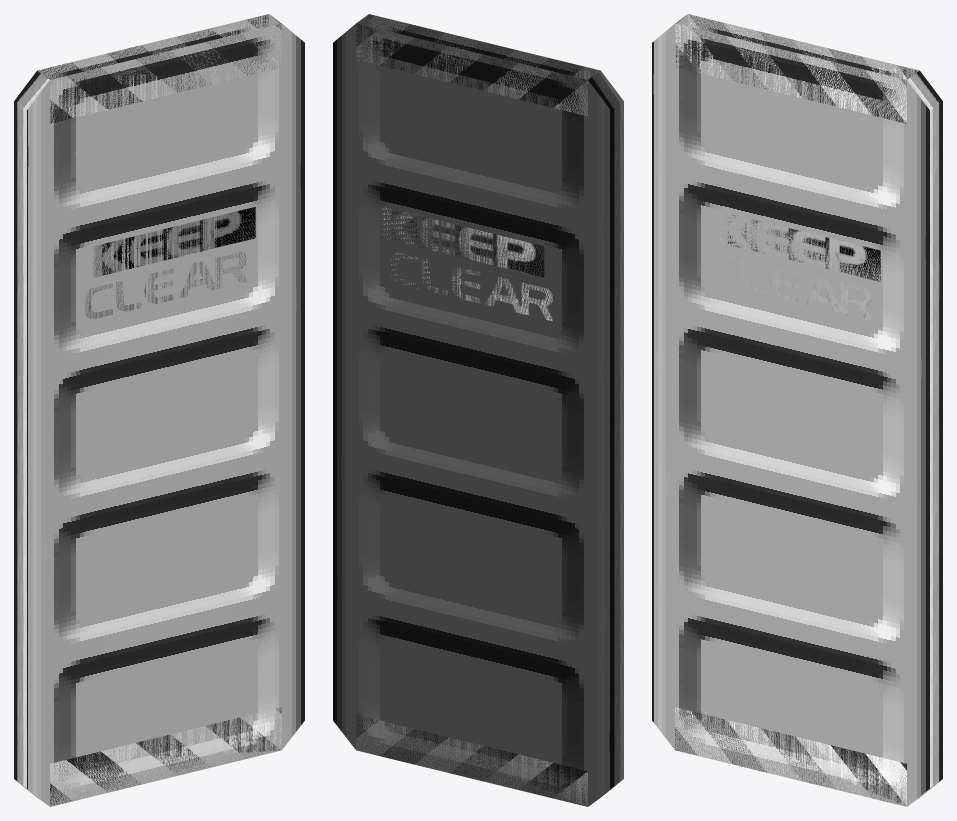
File: Pdoor_dest2Z.obj
3 views of the same model, side by side, from view 1: azimuth 30°, elevation 25°; view 2: azimuth 150°, elevation 25°; view 3: azimuth 330°, elevation 25° (orthographic).
Size of the model in its own units: 350 by 875 by 28.
Materials: 5 (5 with a texture image).
